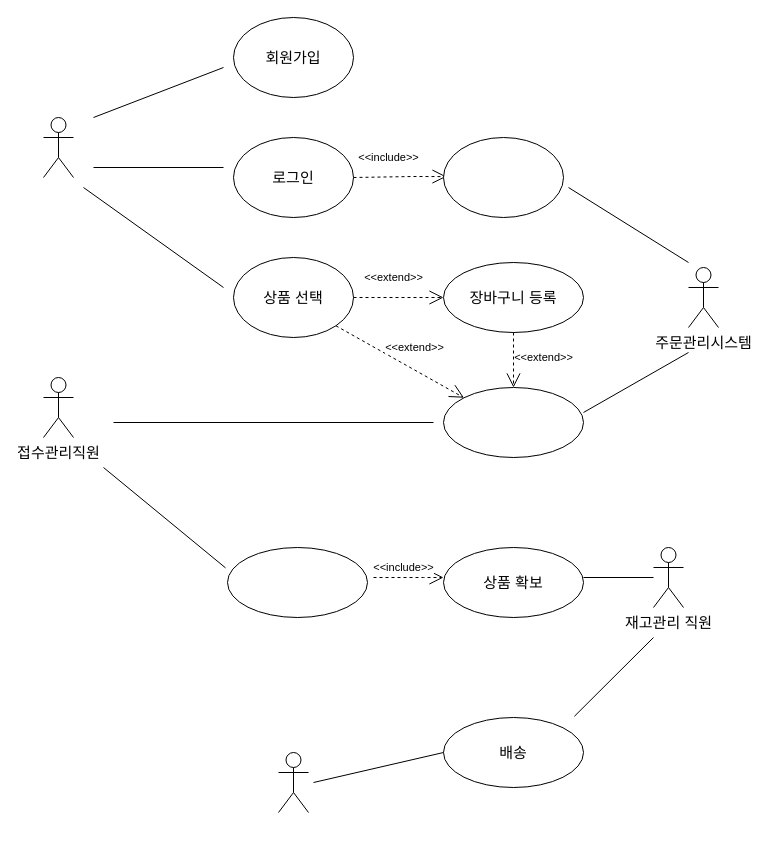
The diagram is 769 pixels wide and 855 high, and some of its shapes have lost their labels. The centre of each missing label's shape, as x and y in pixels:
결제: point 513,422
고객: point 58,147
고객 확인: point 503,177
상품 등록: point 297,582
운송 직원: point 293,782
